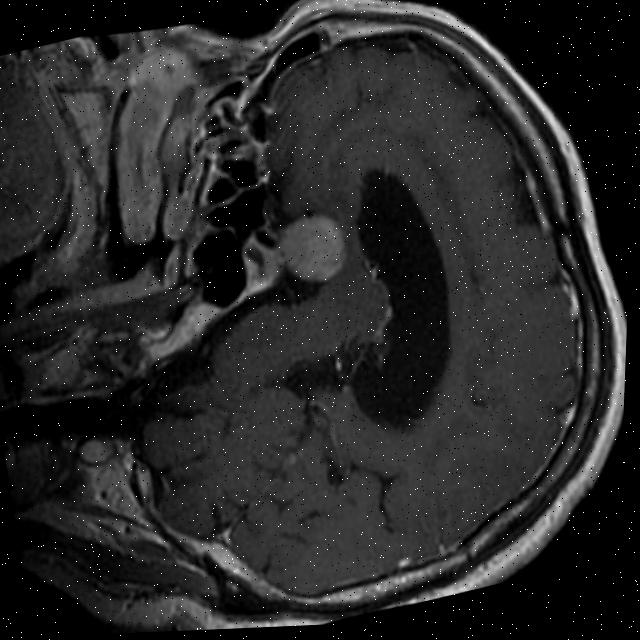Pituitary: (270, 204, 354, 294), (231, 225, 287, 298)
